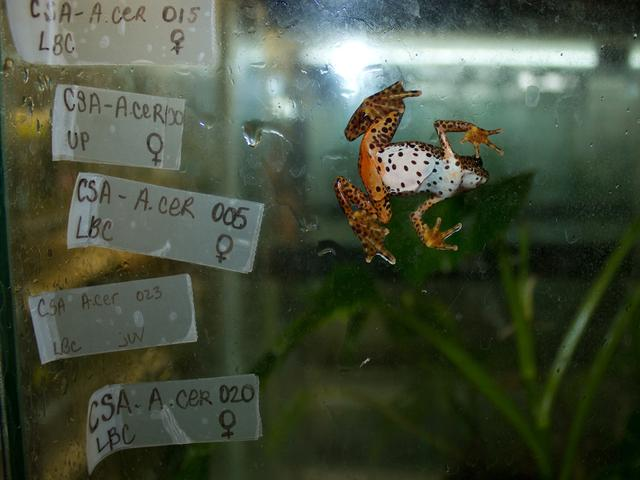frog: (320, 51, 517, 313)
